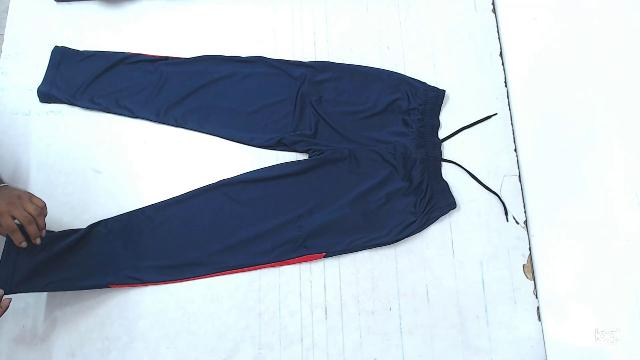new-garment: (0, 46, 456, 293)
